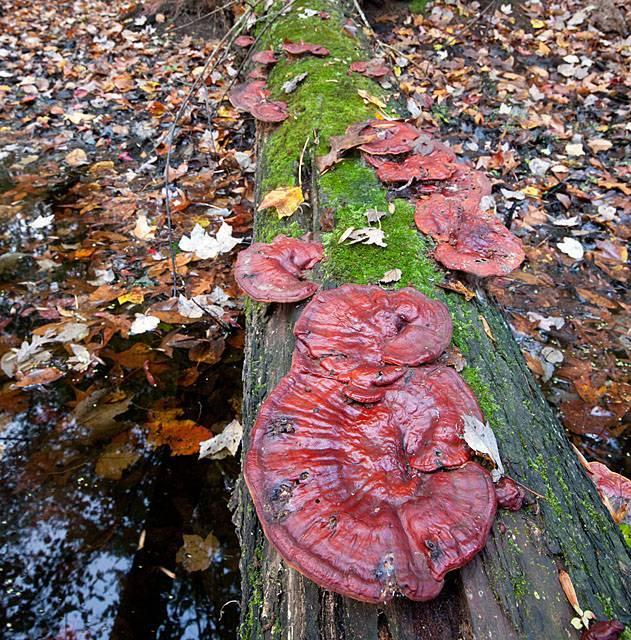poisonous_mushroom: (218, 34, 512, 366), (240, 278, 527, 605)
